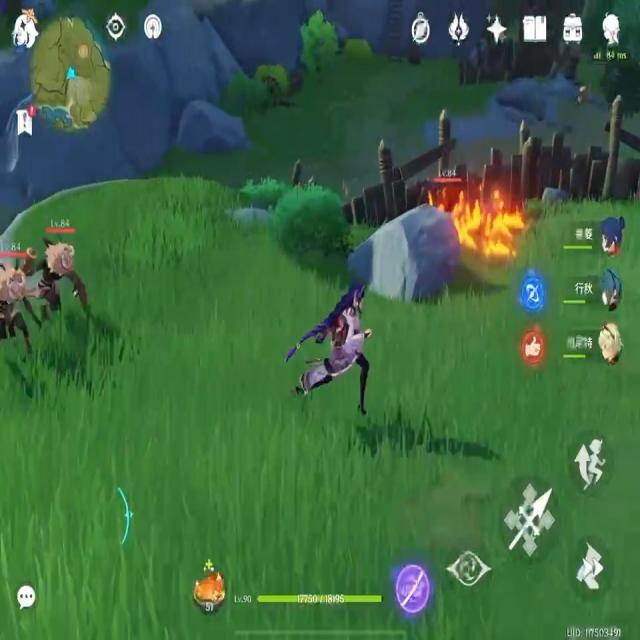genshin-hilichurls: (43, 221, 88, 327), (1, 245, 32, 361), (436, 167, 462, 212), (578, 83, 590, 108)
